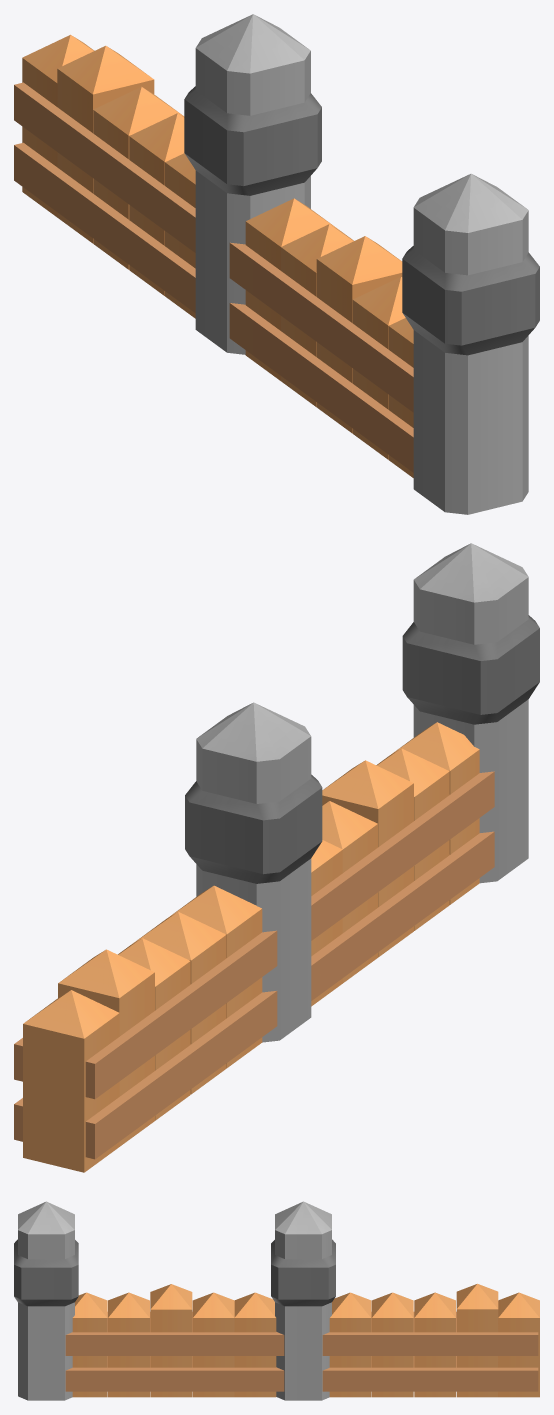
Rendered from Fence 2.fbx.
3 views of the same model, one above another, from view 1: azimuth 30°, elevation 25°; view 2: azimuth 150°, elevation 25°; view 3: azimuth 270°, elevation 25° (orthographic). The views are drawn at different scales.
Visible parts, largest first — view 1: Fence_2; view 2: Fence_2; view 3: Fence_2.
Boxes of the visible parts, <box> form: Fence_2: <box>14,14,539,514</box>; Fence_2: <box>14,543,539,1172</box>; Fence_2: <box>14,1201,539,1400</box>.
Bounding box in the file's own units: 0.1615 × 0.5143 × 1.31.
1 material, 1 textured.
